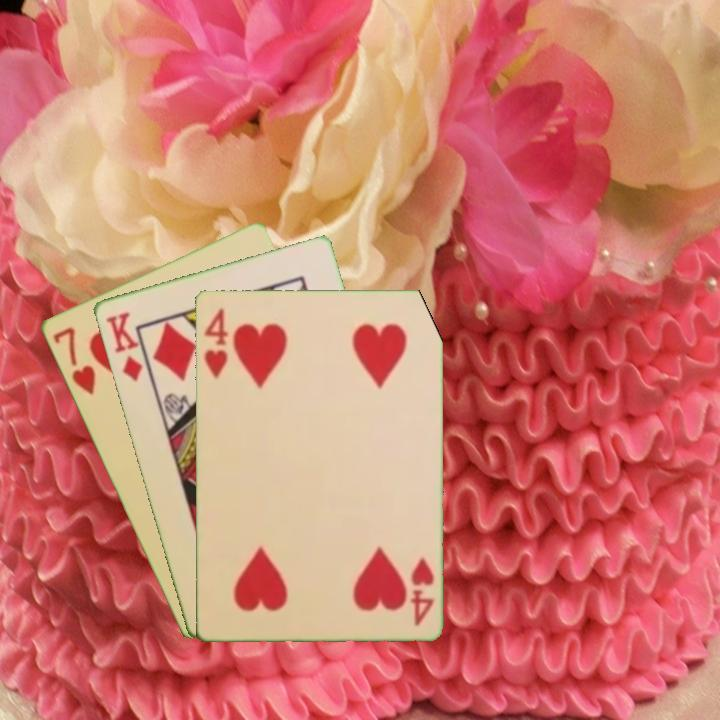4h: (200, 304, 230, 381), (406, 553, 436, 628)
7h: (48, 323, 98, 398)
Kd: (101, 308, 145, 385)
